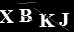B: (18, 8, 33, 23)
J: (57, 12, 69, 26)
K: (38, 13, 55, 28)
X: (1, 8, 14, 24)
